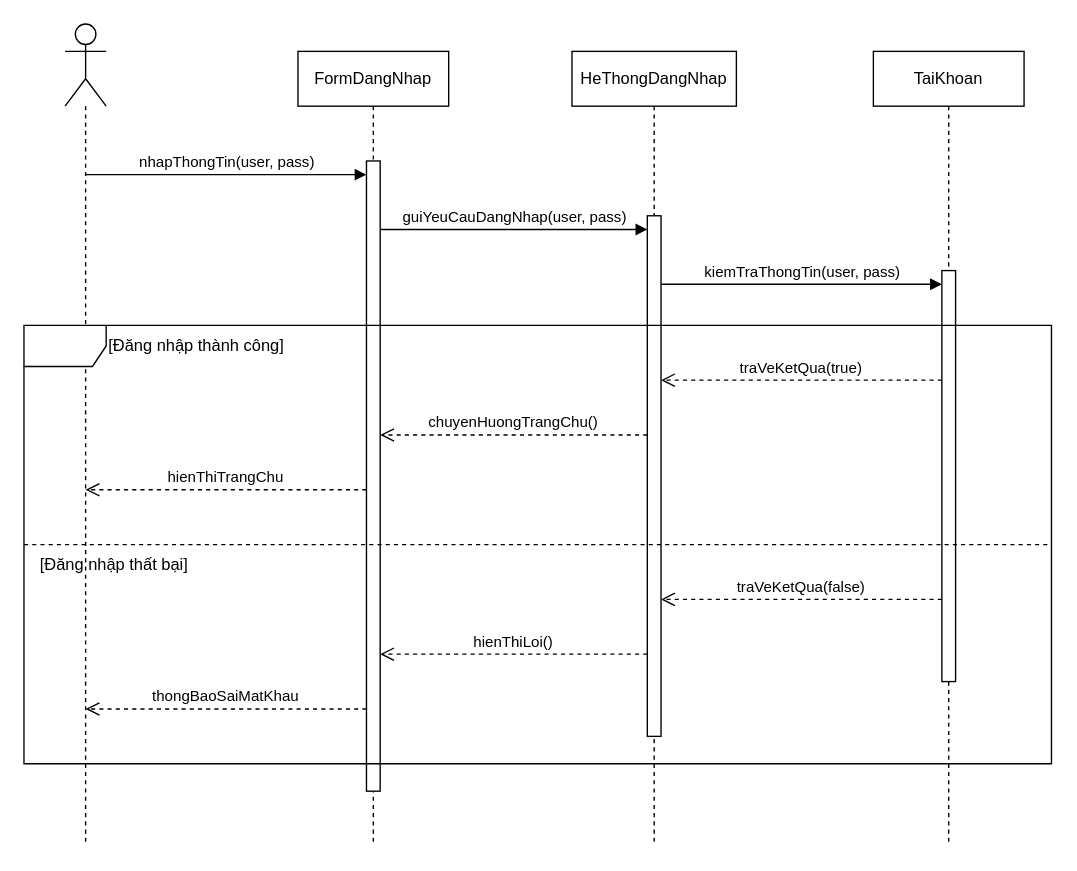
Some shapes in this 1077 by 871 pixel diagram are drawn without their labels. The shapes that lost their labels are listed below. From the top down, each one's box as (x1, y1, x2, y2) in pixels, then its label:
(64, 23, 106, 106): NGUOIDUNG
(23, 324, 1051, 764): alt
